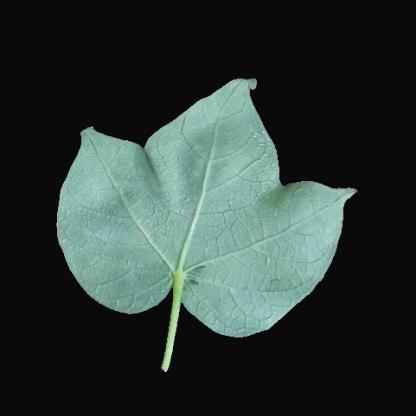curl_stage2: (78, 162, 168, 300), (178, 122, 254, 250), (256, 190, 334, 278), (191, 275, 279, 322)
